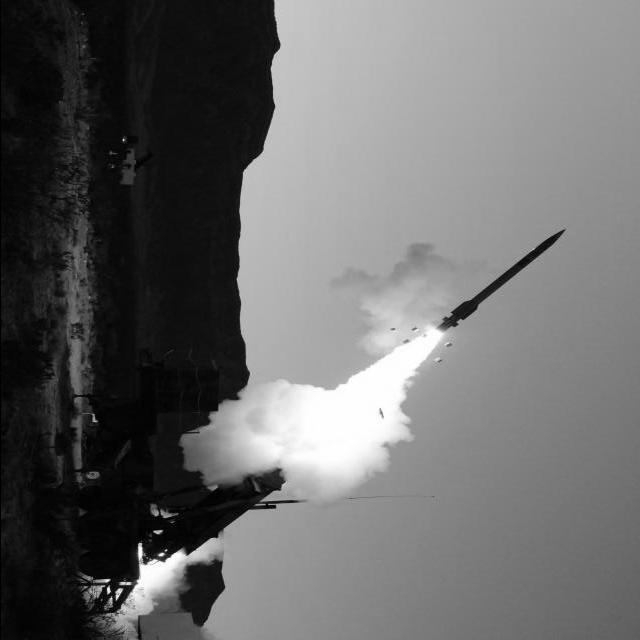Missile: (424, 222, 584, 333)
